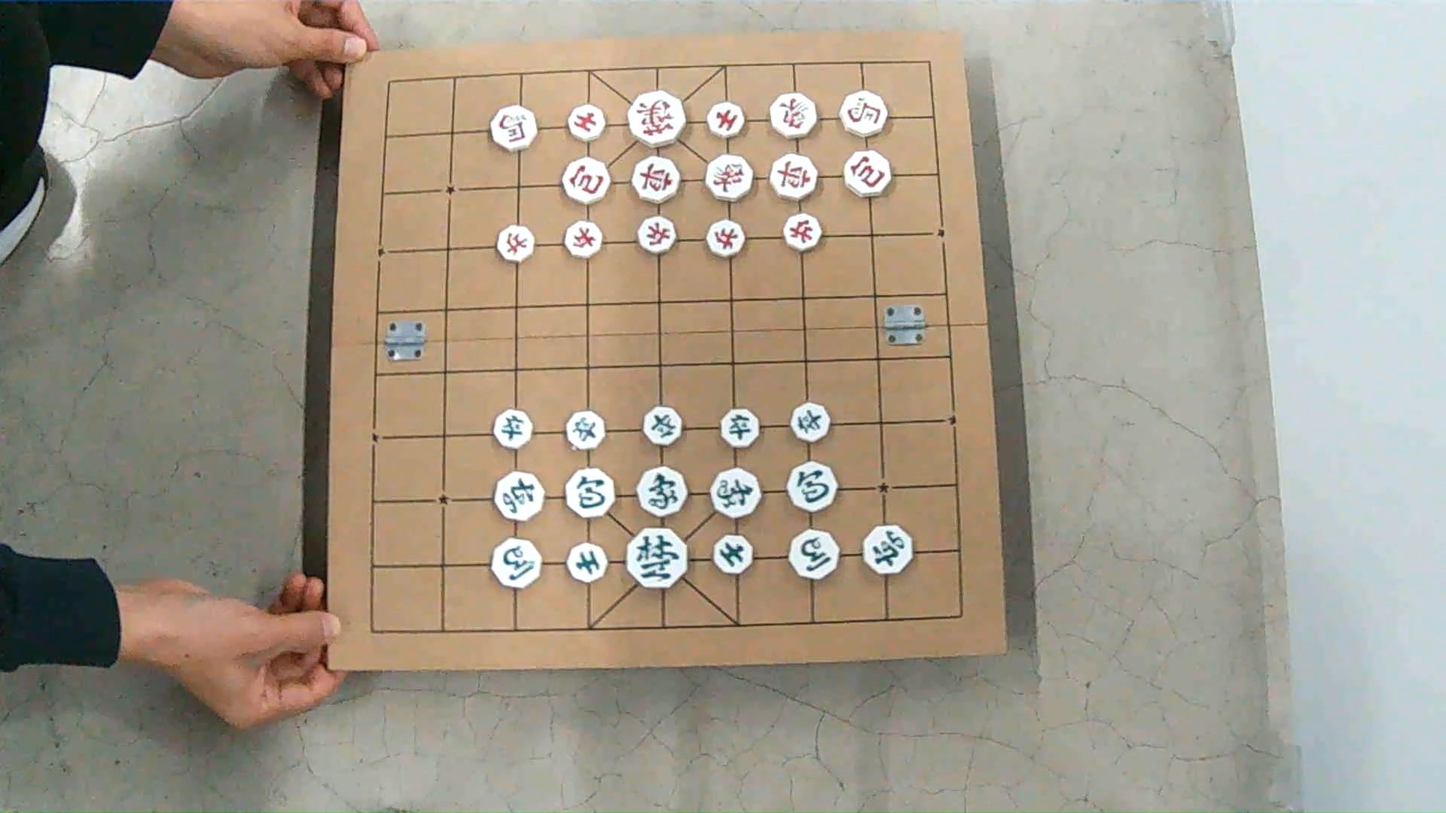cha_green: (494, 471, 544, 521), (862, 525, 912, 574)
cha_red: (632, 156, 679, 203), (770, 154, 817, 200)
jol_green: (720, 408, 759, 448), (642, 407, 681, 446), (494, 409, 532, 449), (566, 411, 605, 449), (791, 403, 829, 442)
jol_red: (637, 216, 675, 254), (784, 214, 822, 251), (706, 220, 744, 257), (565, 221, 602, 258), (497, 225, 533, 262)
ma_green: (789, 530, 838, 580), (491, 538, 539, 588)
ma_red: (840, 91, 887, 138), (490, 106, 536, 151)
po_green: (565, 468, 615, 518), (788, 461, 837, 511)
po_red: (562, 158, 609, 204), (844, 151, 889, 197)
sa_green: (568, 544, 607, 583), (714, 535, 752, 574)
sa_red: (568, 105, 606, 142), (707, 102, 745, 138)
sang_green: (710, 468, 760, 518), (637, 467, 686, 516)
sang_red: (770, 93, 817, 139), (705, 154, 752, 200)
wang_green: (627, 528, 686, 589)
wang_red: (628, 91, 685, 147)
